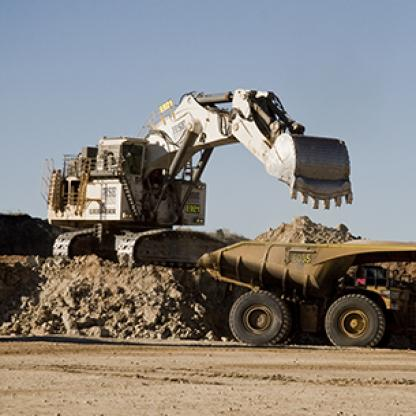dump_truck: (199, 216, 415, 358)
excavator: (30, 68, 382, 267)
